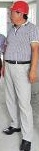boots: (3, 125, 20, 133), (0, 111, 7, 118)
hard-hat: (0, 14, 7, 24)
